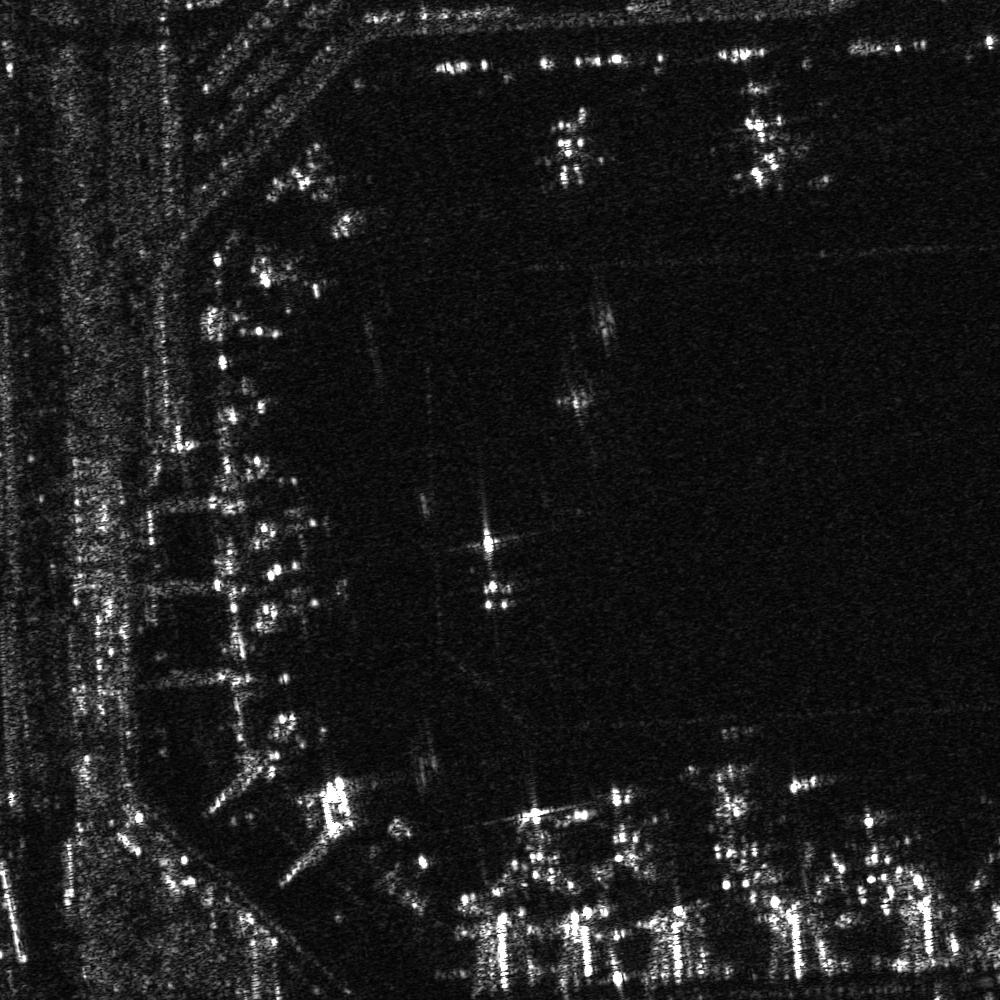A220: (293, 163, 384, 245), (243, 244, 340, 320), (254, 485, 344, 565), (260, 573, 362, 643), (504, 796, 576, 895)
A320/321: (704, 760, 780, 875), (845, 804, 908, 890)
Boeing737: (529, 108, 620, 192), (466, 525, 534, 617)
other: (720, 107, 815, 197), (595, 782, 658, 883)
